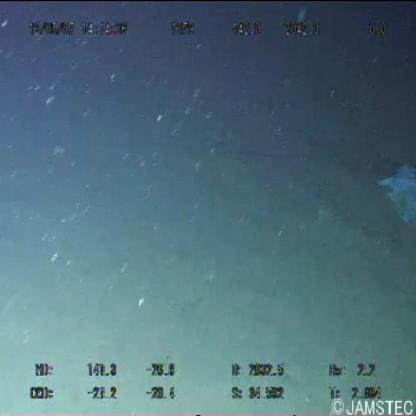Rác: (377, 167, 415, 227)
